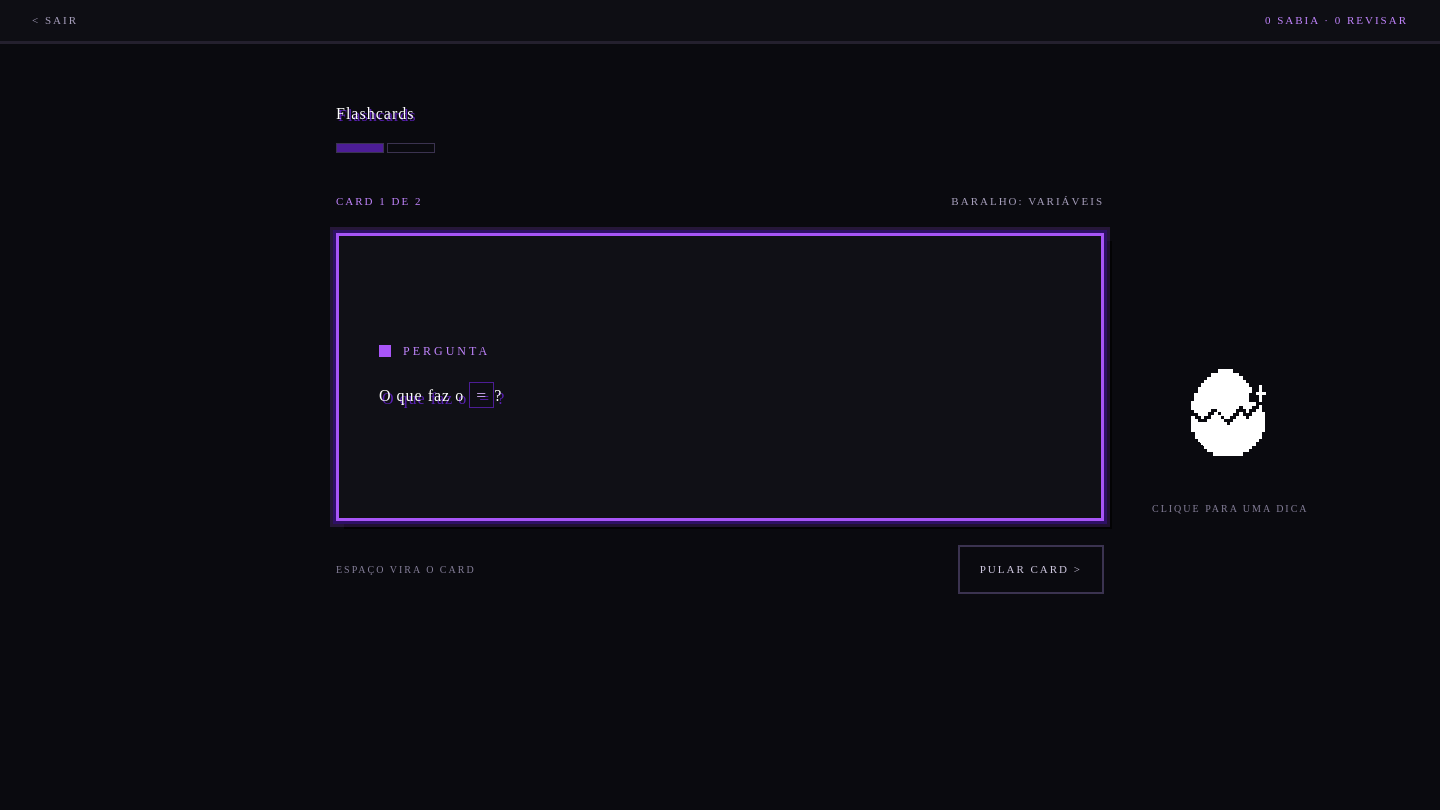
Test: SessaoFlashcards › revela a resposta no clique e na barra de espaço
Check: the text "Card 1 de 2" is shown, box [336,193,422,209]
Click the button with aria-label "Revelar a resposta": (720, 377) [336,233,1104,521]
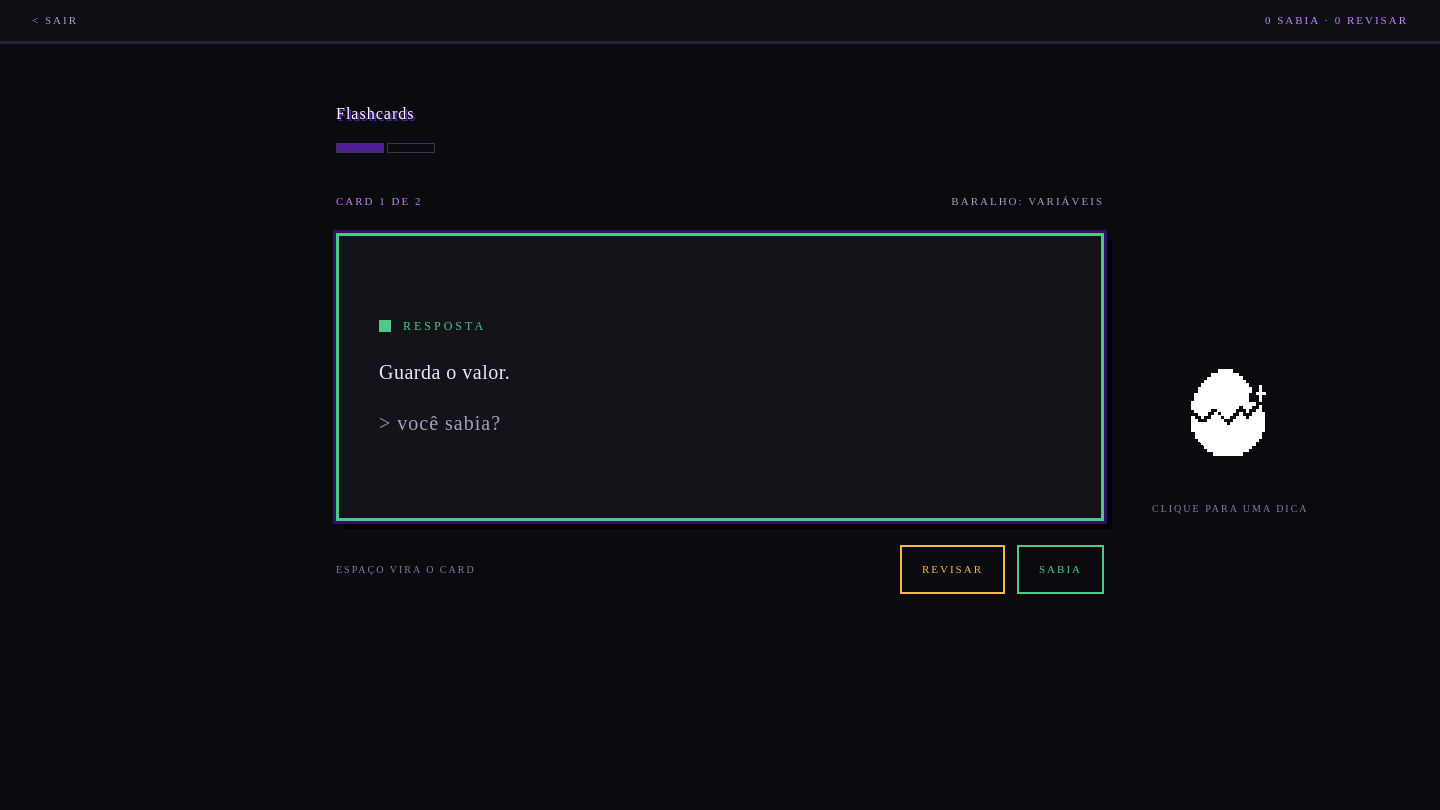
Check: the text "Guarda o valor." is shown, box [379,361,510,383]
Press Space
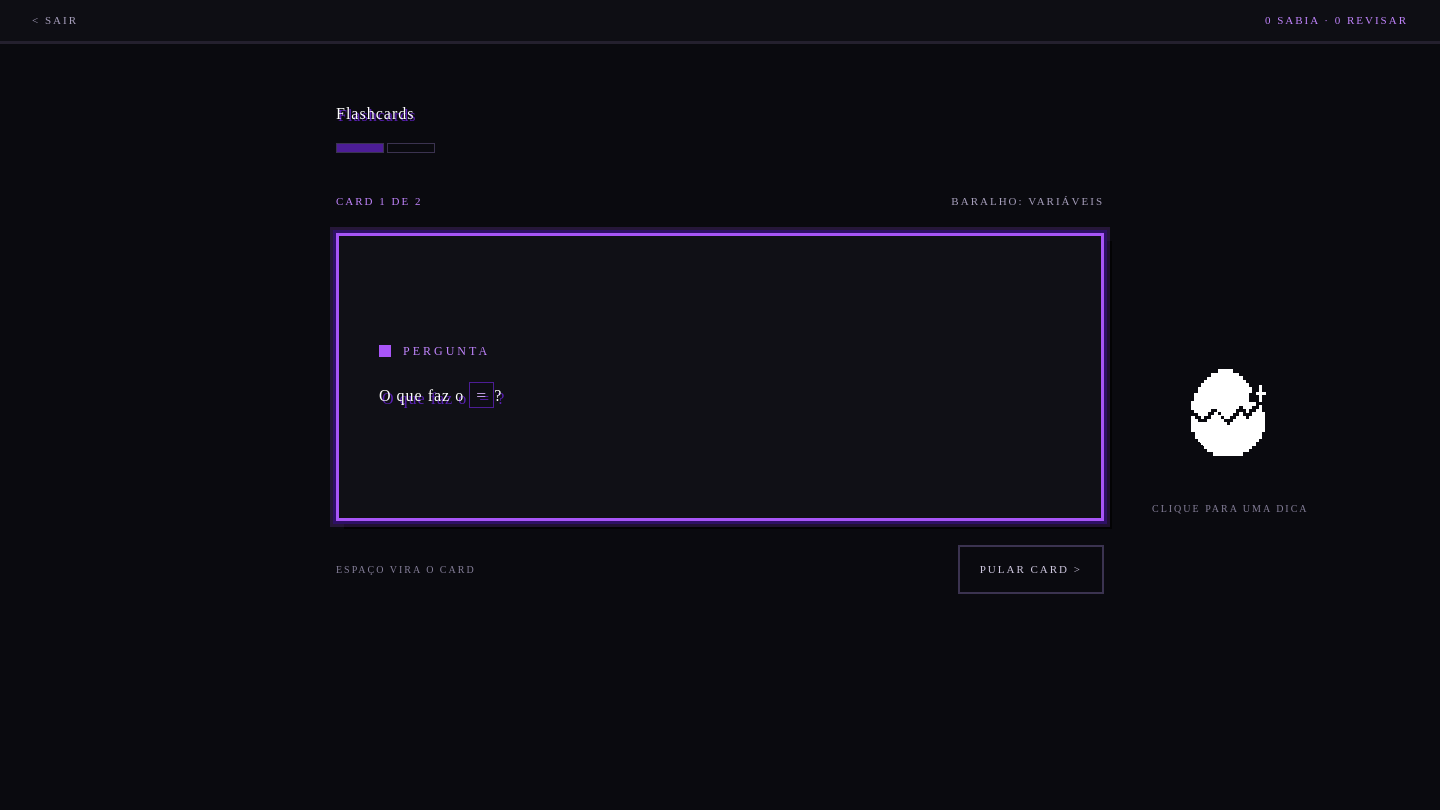
Check: the button with aria-label "Revelar a resposta" is shown, box [336,233,1104,521]
